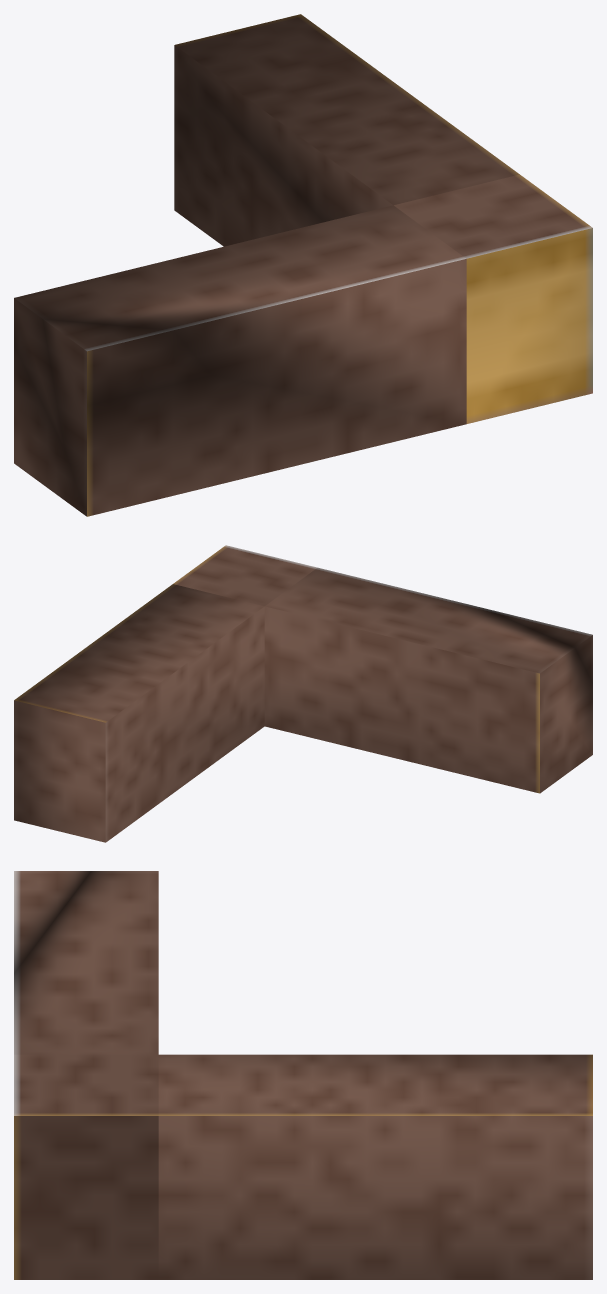
The model's file is esquinasuperiorbarcopersa.fbx.
3 views of the same model, one above another, from view 1: azimuth 30°, elevation 25°; view 2: azimuth 150°, elevation 25°; view 3: azimuth 270°, elevation 25° (orthographic). The views are drawn at different scales.
Parts seen in each view (by area): view 1: Cube; view 2: Cube; view 3: Cube.
Boxes of the visible parts, x1,y1,x2,y2 form: Cube: (14, 14, 592, 516); Cube: (14, 545, 592, 842); Cube: (14, 871, 592, 1279).
Size of the model in its own units: 1 by 1 by 0.3125.
1 material, 1 textured.
